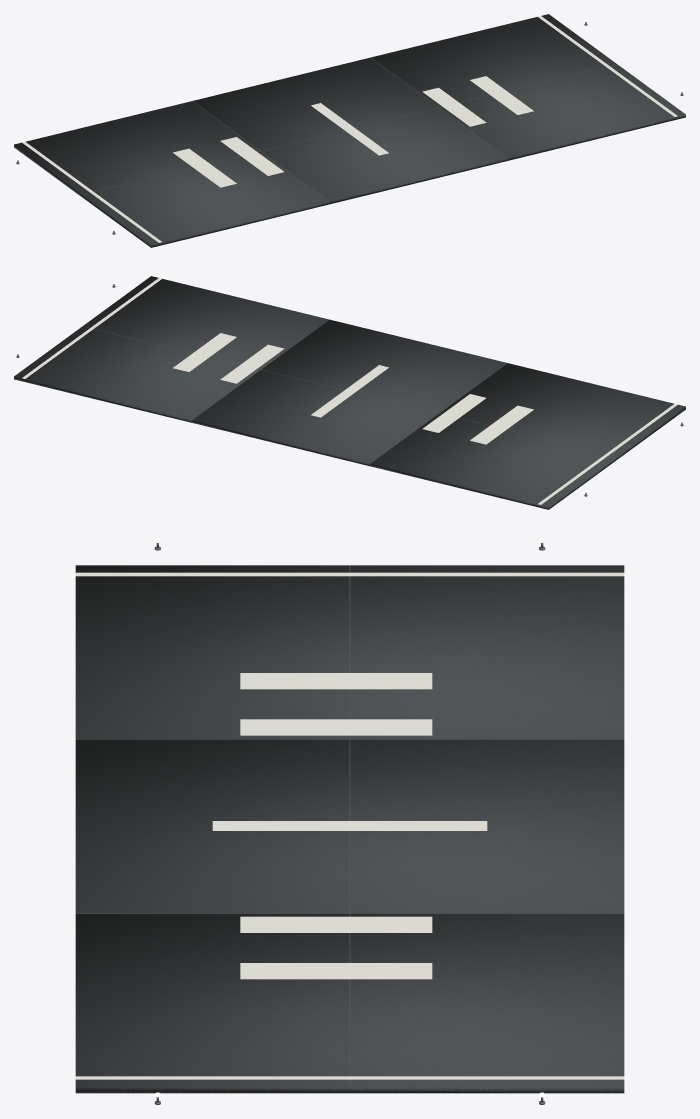
File: PZ_Runway_Touchdown_45x20m.glb
3 renders of one model, top to bottom at view 1: azimuth 30°, elevation 25°; view 2: azimuth 150°, elevation 25°; view 3: azimuth 270°, elevation 25°, orthographic. The views are drawn at different scales.
Parts seen in each view (by area): view 1: RWY_AsphaltLane_2, RWY_AsphaltLane_1, RWY_AsphaltLane_3, RWY_TDZ_-1_1, RWY_TDZ_1_0, RWY_TDZ_-1_0, RWY_TDZ_1_1, RWY_Centerline_White_Dash, RWY_EdgeWhite_-1, RWY_EdgeWhite_1; view 2: RWY_AsphaltLane_2, RWY_AsphaltLane_1, RWY_AsphaltLane_3, RWY_TDZ_1_0, RWY_TDZ_1_1, RWY_TDZ_-1_0, RWY_TDZ_-1_1, RWY_Centerline_White_Dash, RWY_EdgeWhite_-1, RWY_EdgeWhite_1; view 3: RWY_AsphaltLane_2, RWY_AsphaltLane_3, RWY_AsphaltLane_1, RWY_TDZ_-1_0, RWY_TDZ_-1_1, RWY_TDZ_1_0, RWY_TDZ_1_1, RWY_Centerline_White_Dash, RWY_EdgeWhite_-1, RWY_EdgeWhite_1, RWY_ExpansionJoint_Cross_0.
Part boxes in pixels (<box>): RWY_AsphaltLane_2: <box>193,57,507,204</box>; RWY_AsphaltLane_1: <box>14,101,329,247</box>; RWY_AsphaltLane_3: <box>371,14,685,160</box>; RWY_TDZ_-1_1: <box>173,148,236,187</box>; RWY_TDZ_1_0: <box>422,87,486,126</box>; RWY_TDZ_-1_0: <box>220,137,283,175</box>; RWY_TDZ_1_1: <box>470,76,533,114</box>; RWY_Centerline_White_Dash: <box>311,103,388,155</box>; RWY_EdgeWhite_-1: <box>22,141,161,242</box>; RWY_EdgeWhite_1: <box>538,16,677,116</box>; RWY_AsphaltLane_2: <box>192,319,506,466</box>; RWY_AsphaltLane_1: <box>370,363,685,509</box>; RWY_AsphaltLane_3: <box>14,276,328,422</box>; RWY_TDZ_1_0: <box>220,344,284,383</box>; RWY_TDZ_1_1: <box>173,333,236,371</box>; RWY_TDZ_-1_0: <box>422,394,485,432</box>; RWY_TDZ_-1_1: <box>470,405,533,444</box>; RWY_Centerline_White_Dash: <box>311,365,388,417</box>; RWY_EdgeWhite_-1: <box>538,403,677,504</box>; RWY_EdgeWhite_1: <box>22,278,161,378</box>; RWY_AsphaltLane_2: <box>75,739,624,912</box>; RWY_AsphaltLane_3: <box>75,913,624,1093</box>; RWY_AsphaltLane_1: <box>75,565,624,739</box>; RWY_TDZ_-1_0: <box>240,719,432,735</box>; RWY_TDZ_-1_1: <box>240,673,432,689</box>; RWY_TDZ_1_0: <box>240,916,432,932</box>; RWY_TDZ_1_1: <box>240,963,432,979</box>; RWY_Centerline_White_Dash: <box>212,821,487,830</box>; RWY_EdgeWhite_-1: <box>75,572,624,576</box>; RWY_EdgeWhite_1: <box>75,1076,624,1079</box>; RWY_ExpansionJoint_Cross_0: <box>349,565,350,1086</box>.
Bounding box in the file's own units: 48.03 × 0.65 × 20.
Materials: 5 (3 with a texture image).
